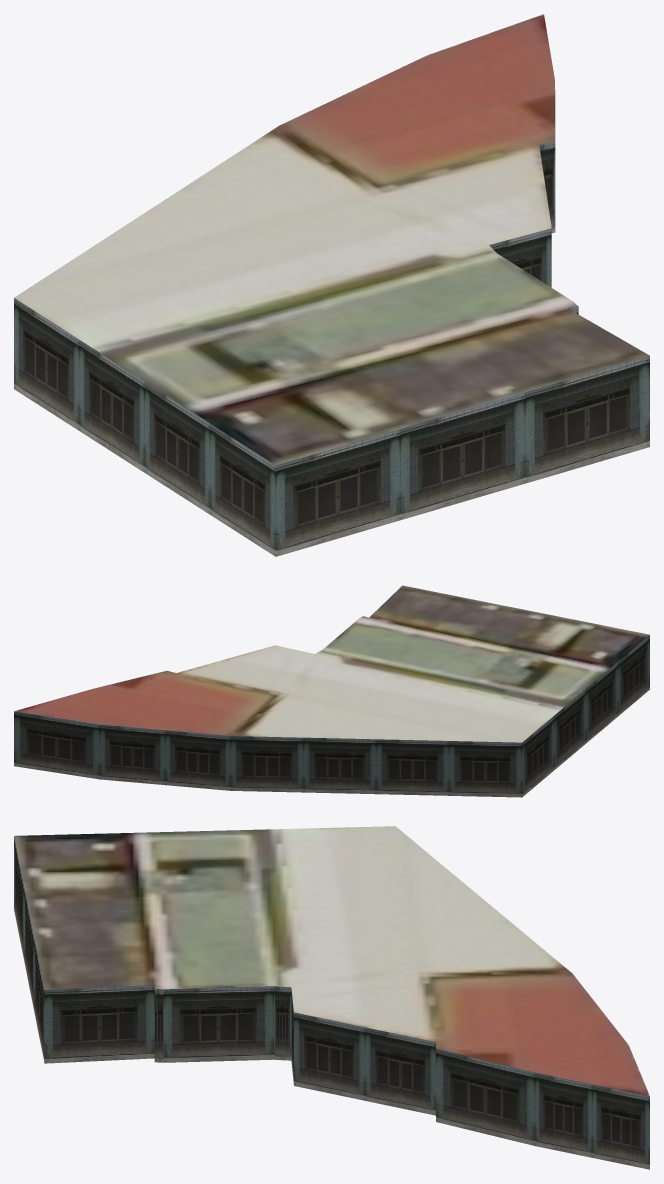
File: T_1T06G4NVNF.dae
3 renders of one model, top to bottom at view 1: azimuth 30°, elevation 25°; view 2: azimuth 150°, elevation 25°; view 3: azimuth 270°, elevation 25°, orthographic. The views are drawn at different scales.
Parts seen in each view (by area): view 1: SketchUp (×5); view 2: SketchUp (×5); view 3: SketchUp (×9).
Boxes of the visible parts, x1,y1,x2,y2 form: SketchUp (×5): (14, 14, 649, 556); SketchUp (×5): (14, 585, 649, 797); SketchUp (×9): (14, 826, 649, 1169).
Size of the model in its own units: 30.56 by 30.43 by 3.88.
2 materials, 2 textured.
